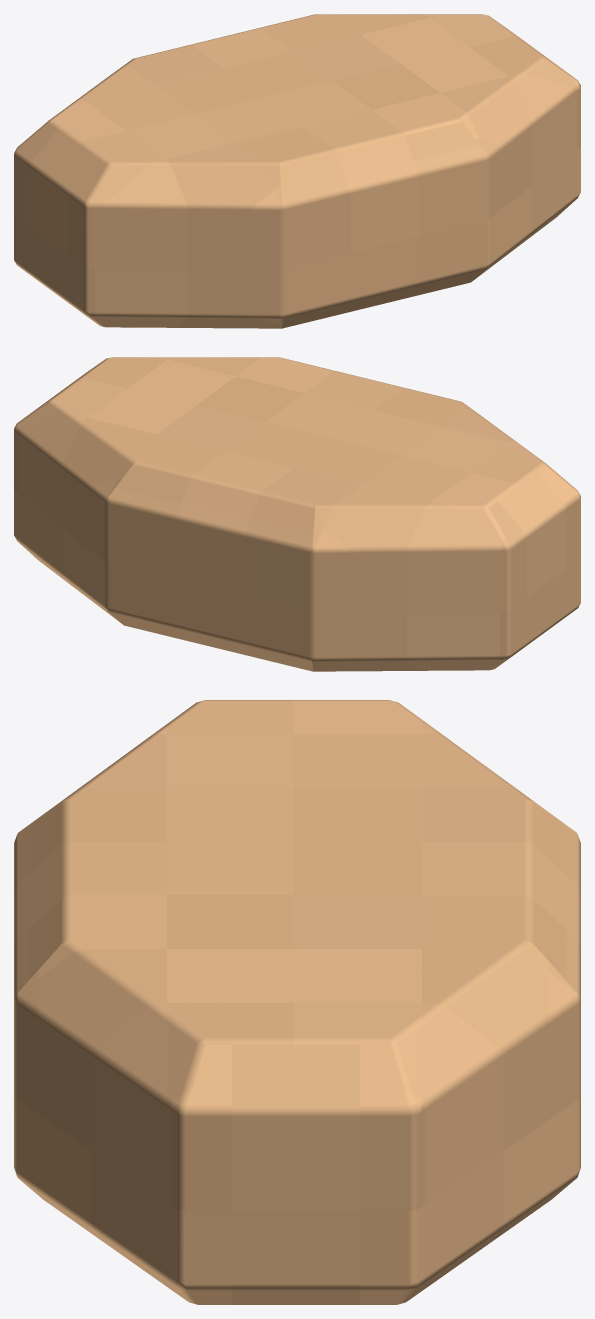
File: Soap-cake.glb
The picture shows the model from 3 angles, top to bottom: view 1: azimuth 30°, elevation 25°; view 2: azimuth 150°, elevation 25°; view 3: azimuth 270°, elevation 25°; orthographic projection. The views are drawn at different scales.
Visible parts, largest first — view 1: Soap-cake; view 2: Soap-cake; view 3: Soap-cake.
Part boxes in pixels (x1,y1,x2,y2): Soap-cake: [14, 14, 580, 328]; Soap-cake: [14, 357, 580, 671]; Soap-cake: [14, 700, 580, 1304].
Bounding box in the file's own units: 0.2827 × 0.088 × 0.1737.
1 material, 1 textured.
